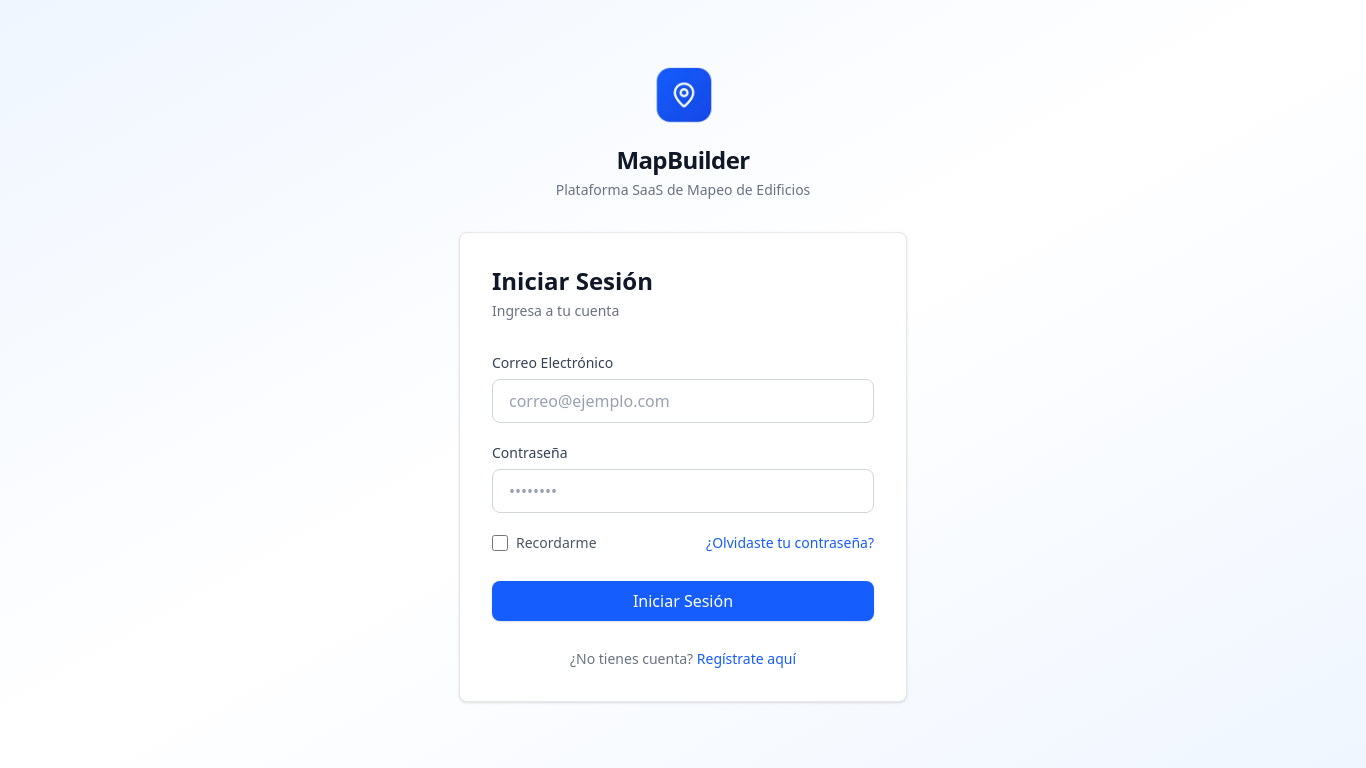
it: LoginPage › muestra mensaje de error cuando el login falla
The width and height of the screenshot is (1366, 768).
Click the button "Iniciar Sesión".
click(683, 601)  # box [492,581,874,621]
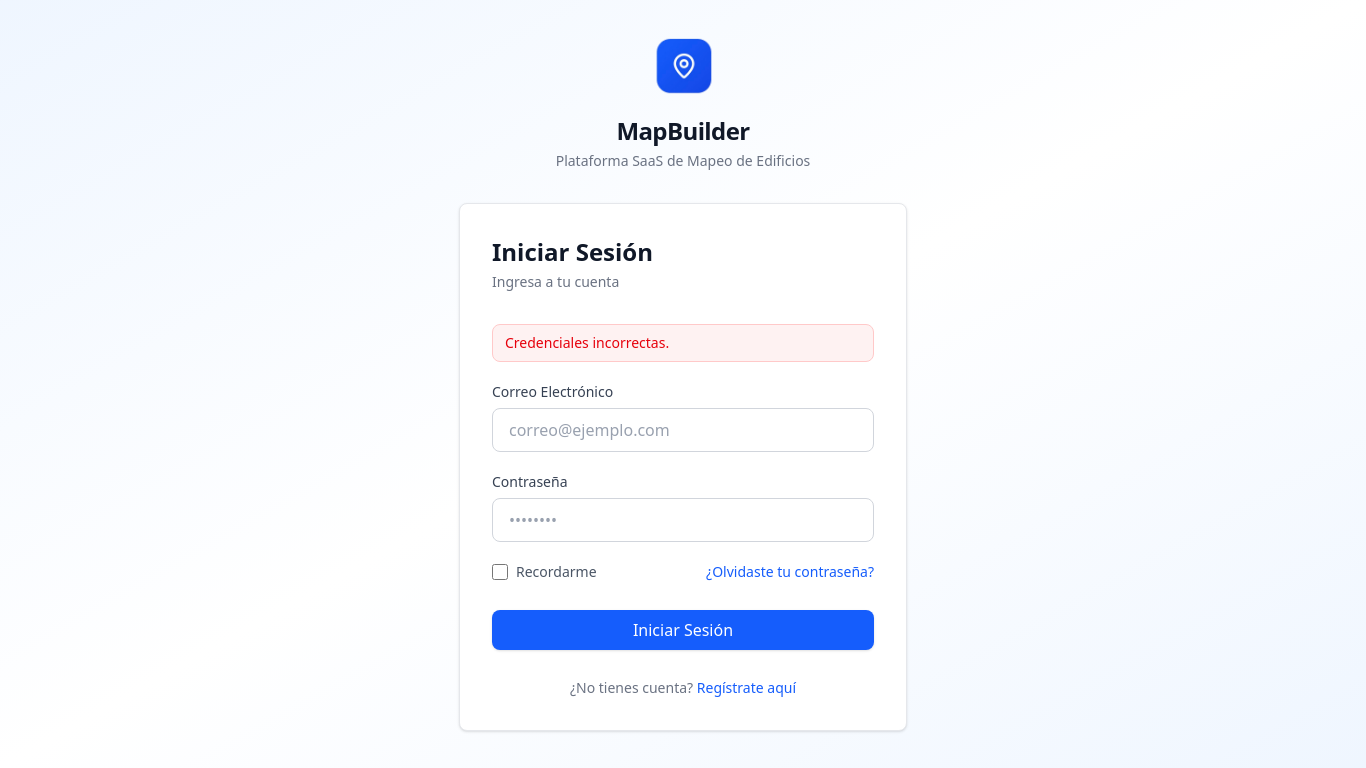
Expected: the text "Credenciales incorrectas." is shown, [492,324,874,362]
